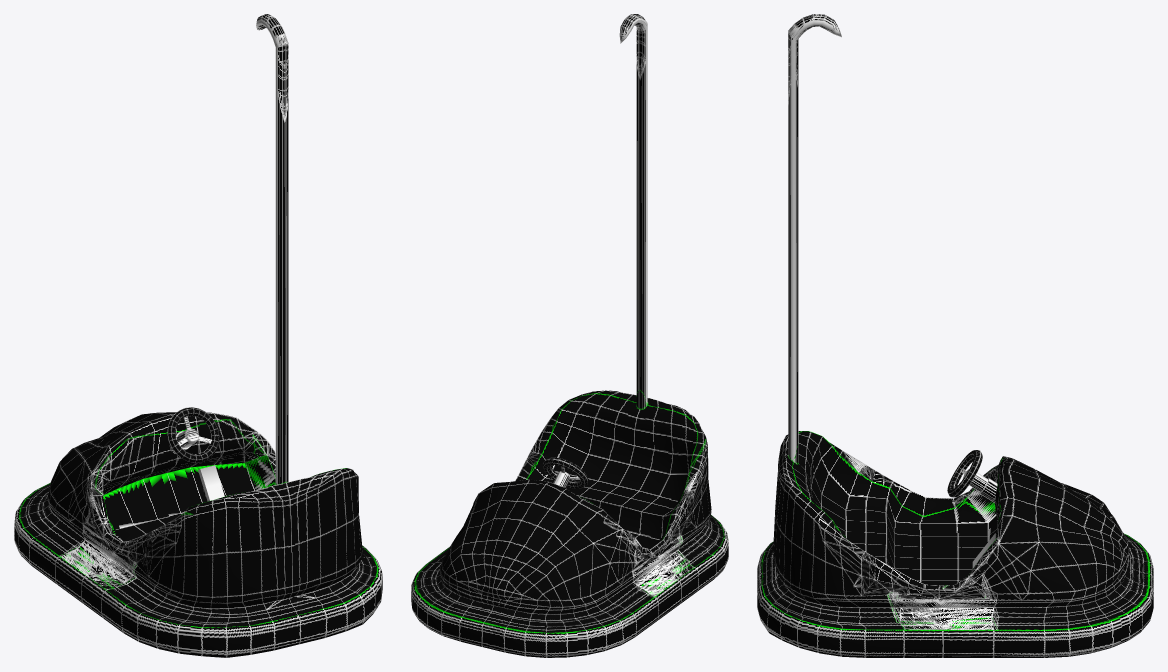
File: AA_newCAR.fbx
The picture shows the model from 3 angles, left to right: view 1: azimuth 30°, elevation 25°; view 2: azimuth 150°, elevation 25°; view 3: azimuth 270°, elevation 25°; orthographic projection. The views are drawn at different scales.
Visible parts, largest first — view 1: Chocador2MaterialsORIG003; view 2: Chocador2MaterialsORIG003; view 3: Chocador2MaterialsORIG003.
Boxes of the visible parts, x1=… form: Chocador2MaterialsORIG003: x1=14, y1=14, x2=382, y2=657; Chocador2MaterialsORIG003: x1=411, y1=14, x2=728, y2=657; Chocador2MaterialsORIG003: x1=757, y1=14, x2=1153, y2=657.
Size of the model in its own units: 59.84 by 141 by 86.27.
Materials: 2 (2 with a texture image).
